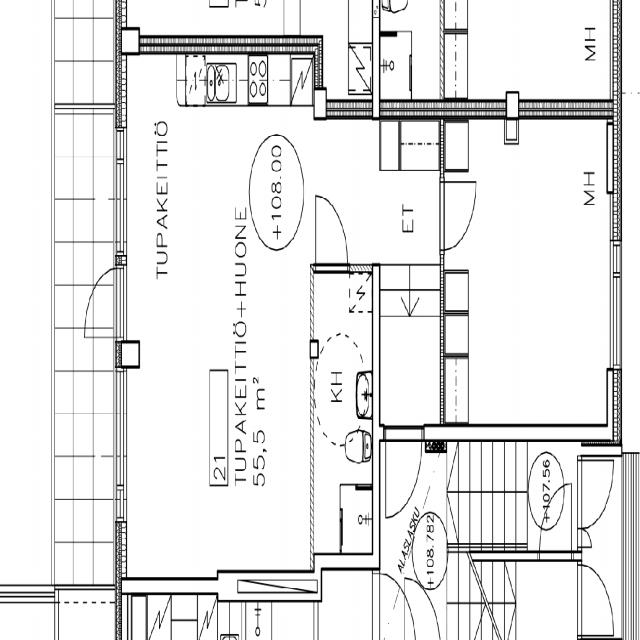door: (386, 424, 422, 517), (82, 267, 127, 336), (316, 195, 348, 272), (440, 182, 476, 250)
